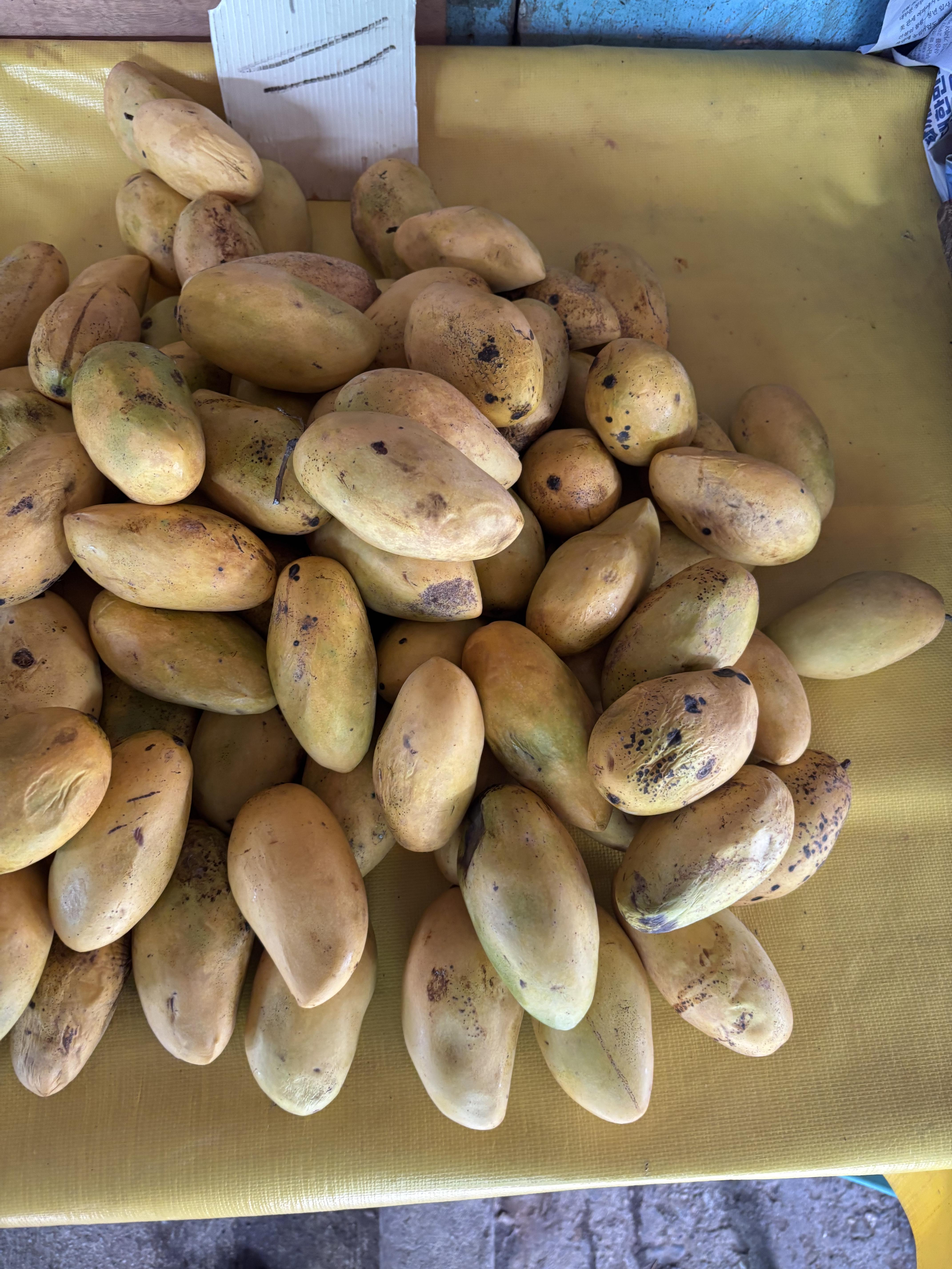mango: (458, 784, 600, 1030), (293, 411, 523, 562), (228, 783, 368, 1008), (178, 259, 378, 393), (587, 668, 758, 816), (267, 556, 376, 773), (64, 503, 277, 611), (72, 341, 205, 505), (373, 657, 484, 852), (649, 447, 821, 567)
occluded: (49, 730, 192, 952), (462, 621, 612, 832), (614, 765, 794, 933), (132, 820, 254, 1065), (402, 888, 523, 1130), (532, 907, 653, 1124), (622, 909, 792, 1057), (245, 928, 377, 1116), (601, 558, 759, 710), (89, 590, 276, 715), (335, 369, 521, 487), (526, 498, 660, 656), (404, 281, 543, 428), (193, 390, 331, 535), (10, 933, 130, 1097), (766, 571, 947, 679), (0, 707, 112, 872), (0, 430, 104, 606), (305, 520, 483, 622), (302, 698, 396, 876), (585, 338, 697, 466), (729, 384, 835, 519), (191, 707, 303, 834), (133, 98, 264, 203), (393, 205, 546, 292), (28, 283, 139, 402), (0, 593, 102, 720), (364, 266, 490, 368), (516, 428, 622, 538), (351, 158, 442, 278), (499, 299, 569, 453), (734, 630, 811, 764), (575, 242, 669, 349), (0, 859, 54, 1039), (377, 618, 486, 704), (0, 241, 69, 370), (474, 495, 545, 619), (116, 171, 188, 289), (173, 193, 264, 285), (252, 251, 380, 312), (526, 268, 620, 350), (239, 158, 312, 254), (0, 383, 74, 460), (69, 254, 150, 315), (230, 375, 317, 425), (159, 341, 230, 394), (559, 351, 594, 426), (589, 808, 640, 852), (140, 295, 180, 349), (690, 412, 735, 452)
